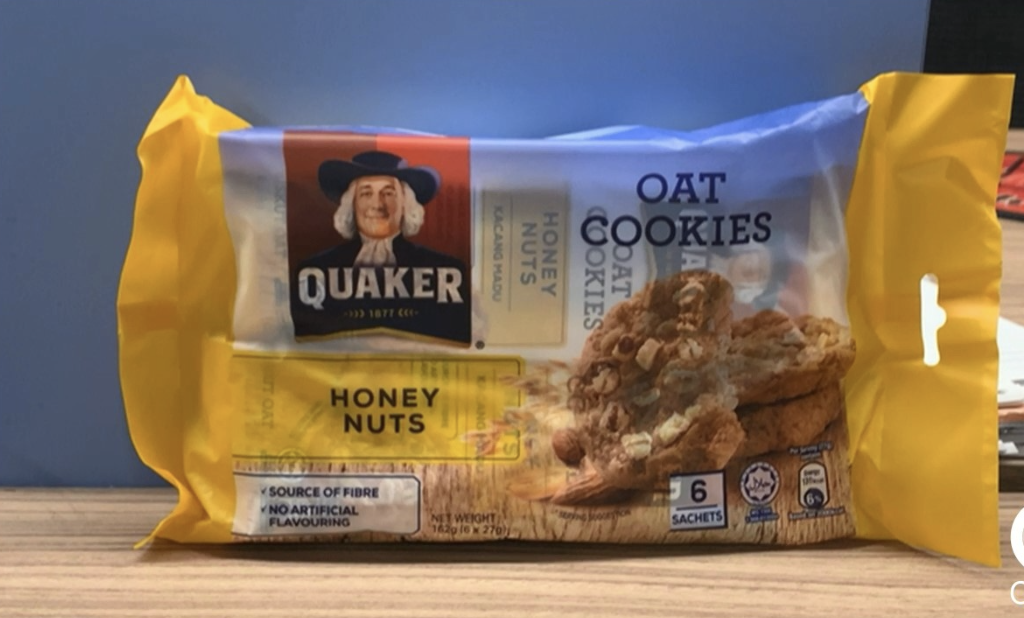cookies_100g-199g: (252, 170, 836, 509)
